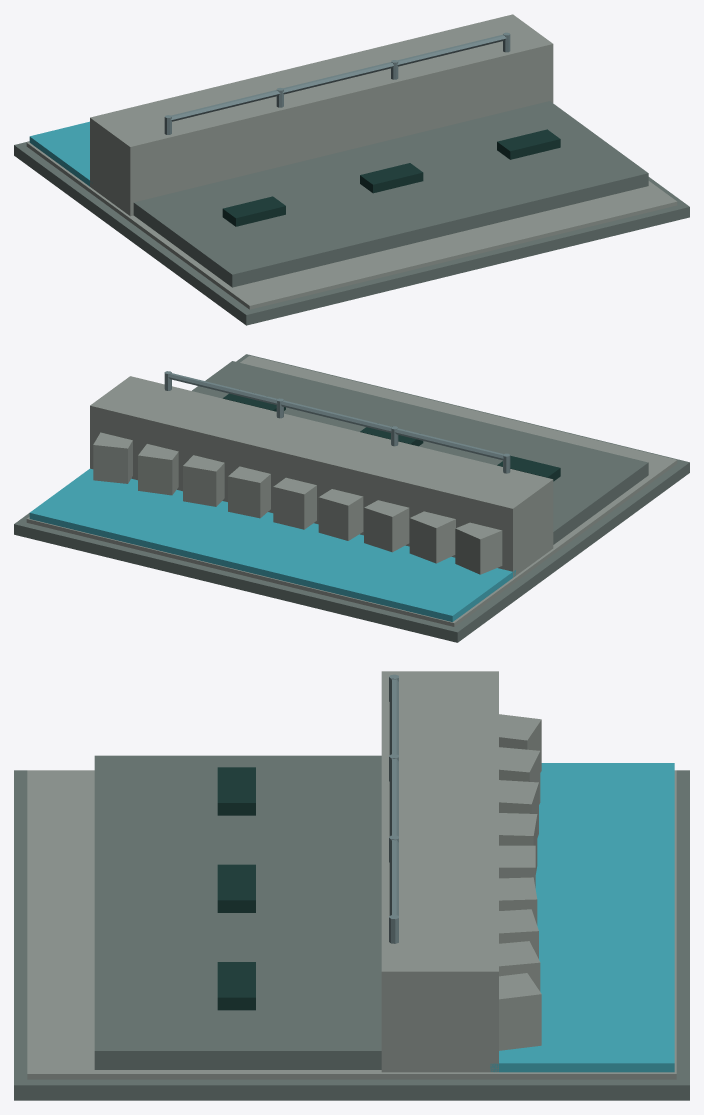
File: seawall_lv2.glb
The picture shows the model from 3 angles, top to bottom: view 1: azimuth 30°, elevation 25°; view 2: azimuth 150°, elevation 25°; view 3: azimuth 270°, elevation 25°; orthographic projection. The views are drawn at different scales.
Visible parts, largest first — view 1: rough, metallic, glossy; view 2: rough, glossy, metallic; view 3: rough, glossy, metallic.
Boxes of the visible parts, bbox=[...] form: rough: bbox=[14, 14, 689, 325]; metallic: bbox=[164, 32, 510, 134]; glossy: bbox=[29, 121, 92, 186]; rough: bbox=[14, 354, 689, 642]; glossy: bbox=[29, 468, 515, 621]; metallic: bbox=[164, 371, 510, 473]; rough: bbox=[14, 671, 689, 1100]; glossy: bbox=[490, 763, 674, 1072]; metallic: bbox=[389, 674, 398, 943].
Bounding box in the file's own units: 9.7 × 2.1 × 8.8.
